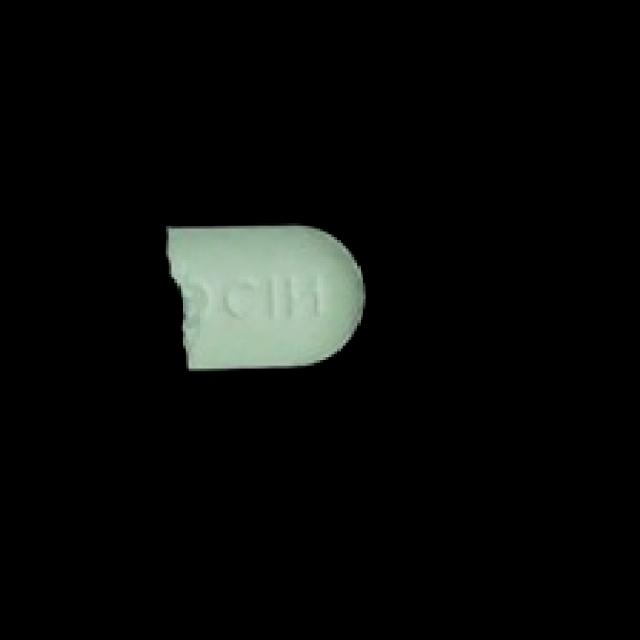defected: (154, 220, 374, 389)
